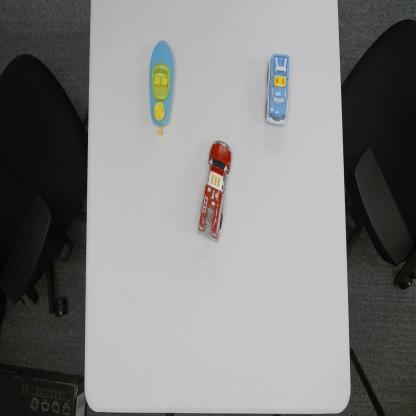Boat: (149, 36, 175, 137)
Car: (264, 50, 292, 127)
Firetruck: (197, 137, 233, 242)
